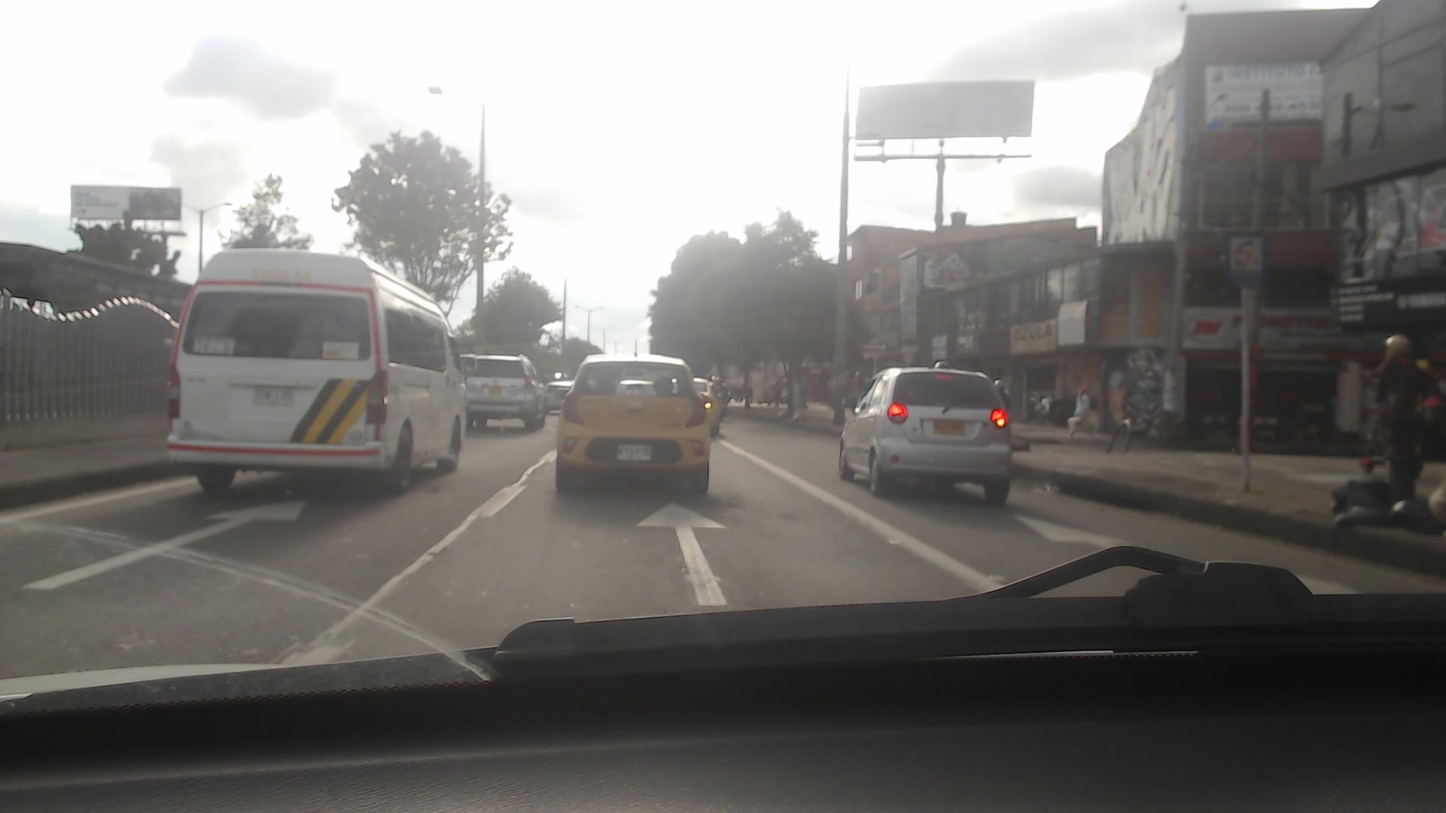bus: (160, 250, 463, 483)
car: (834, 359, 1029, 511), (549, 354, 717, 497), (454, 350, 548, 429)
